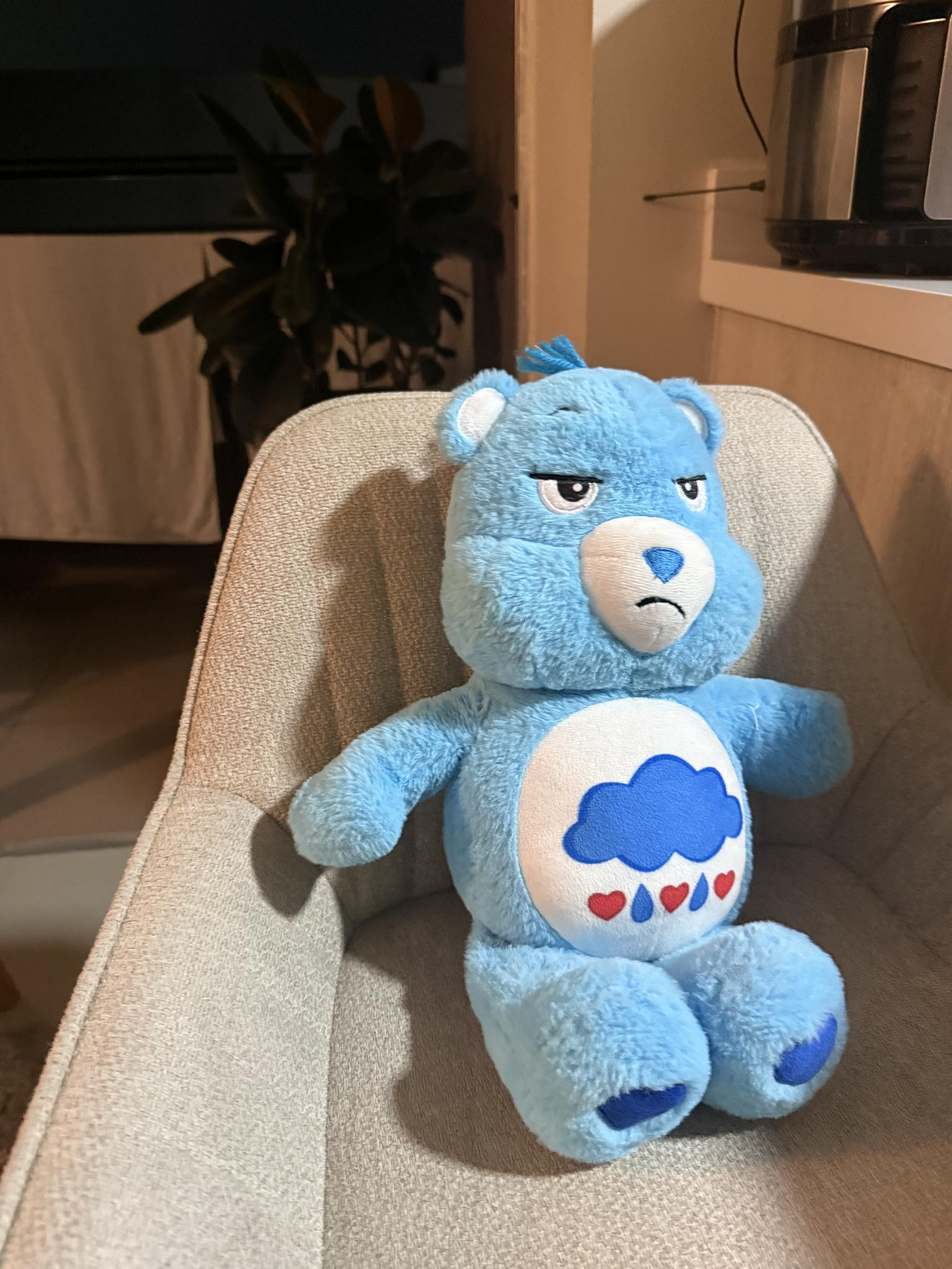peluche_Juan Jose: (284, 367, 873, 1155)
